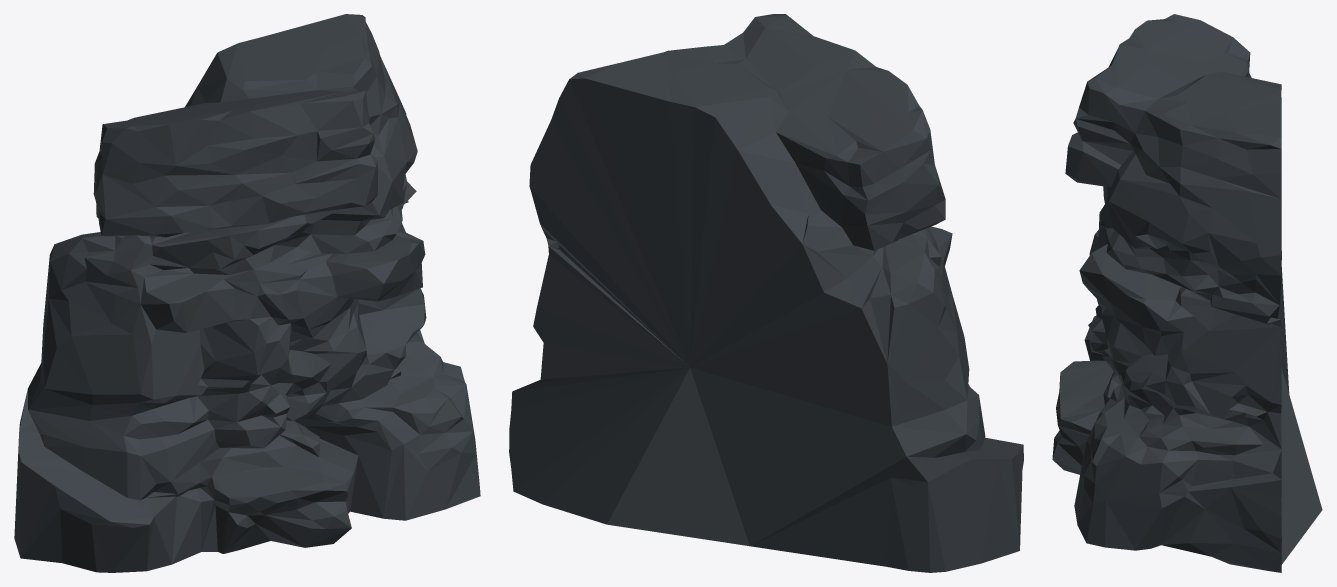
The model's file is MDungeon_CavernRock_Medium_01.FBX.
The picture shows the model from 3 angles, left to right: view 1: azimuth 30°, elevation 25°; view 2: azimuth 150°, elevation 25°; view 3: azimuth 270°, elevation 25°; orthographic projection. The views are drawn at different scales.
Visible parts, largest first — view 1: MDungeon_CavernRock_Medium_01_LOD0; view 2: MDungeon_CavernRock_Medium_01_LOD0; view 3: MDungeon_CavernRock_Medium_01_LOD0.
Boxes of the visible parts, left/top/right/bottom form: MDungeon_CavernRock_Medium_01_LOD0: left=14, top=14, right=480, bottom=572; MDungeon_CavernRock_Medium_01_LOD0: left=509, top=14, right=1023, bottom=572; MDungeon_CavernRock_Medium_01_LOD0: left=1052, top=14, right=1322, bottom=572.
Size of what is drawn, in the model's own units: 26.49 by 24.9 by 14.45.
